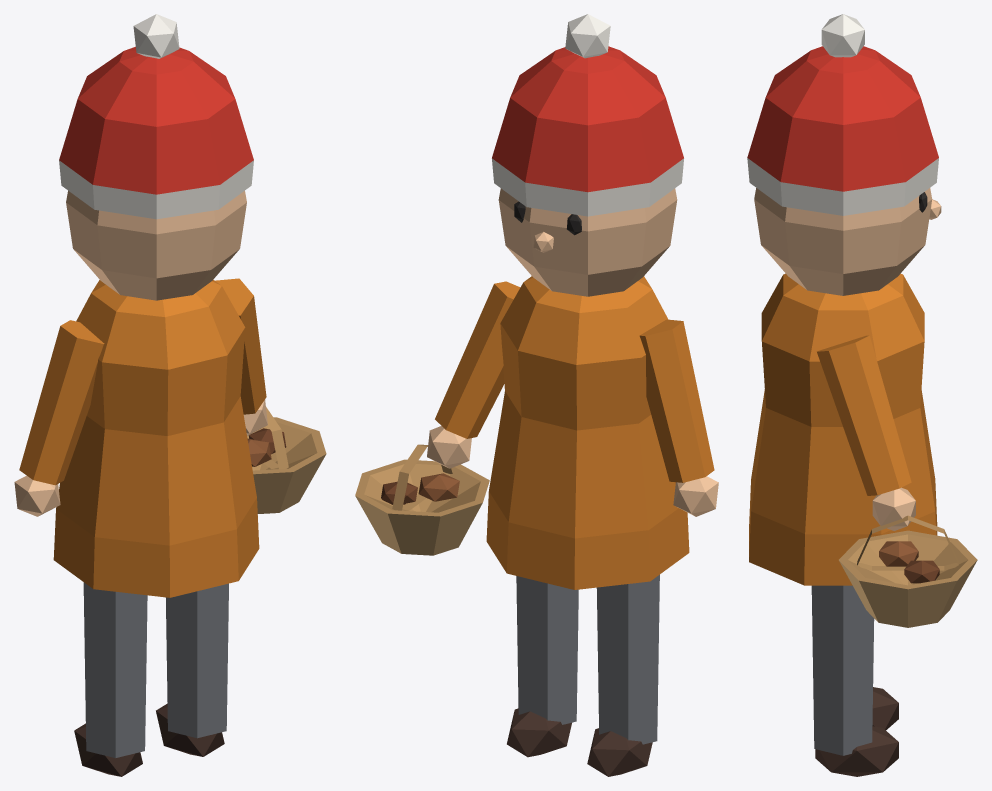
The model's file is picker.glb.
3 views of the same model, side by side, from view 1: azimuth 30°, elevation 25°; view 2: azimuth 150°, elevation 25°; view 3: azimuth 270°, elevation 25° (orthographic).
Visible parts, largest first — view 1: picker; view 2: picker; view 3: picker.
Part boxes in pixels (x1,y1,x2,y2): picker: [14, 14, 326, 776]; picker: [355, 14, 718, 776]; picker: [747, 14, 977, 776].
Size of the model in its own units: 0.8092 by 1.77 by 0.4968.
1 material, 1 textured.
